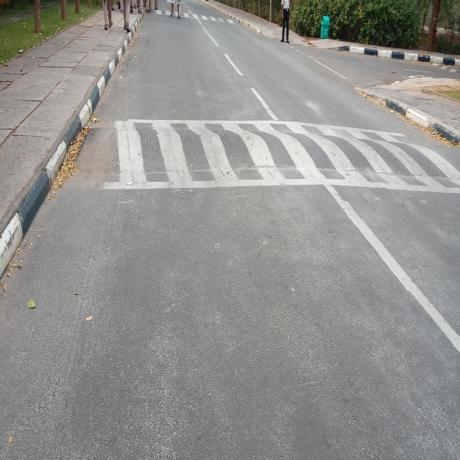Speed Bump: (72, 117, 460, 188)
